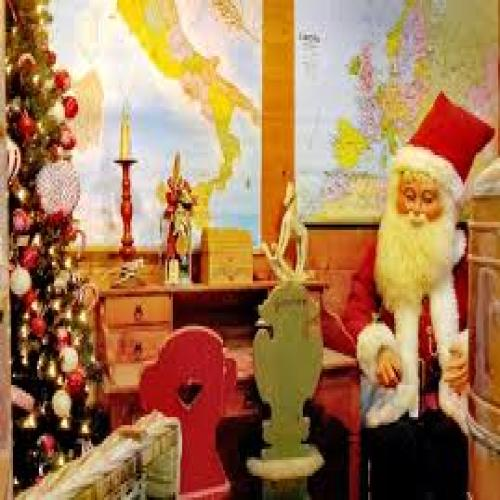Santa: (342, 85, 496, 500)
